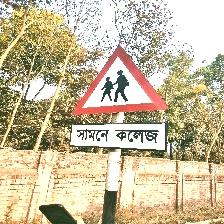College-in-front: (66, 52, 168, 165)
